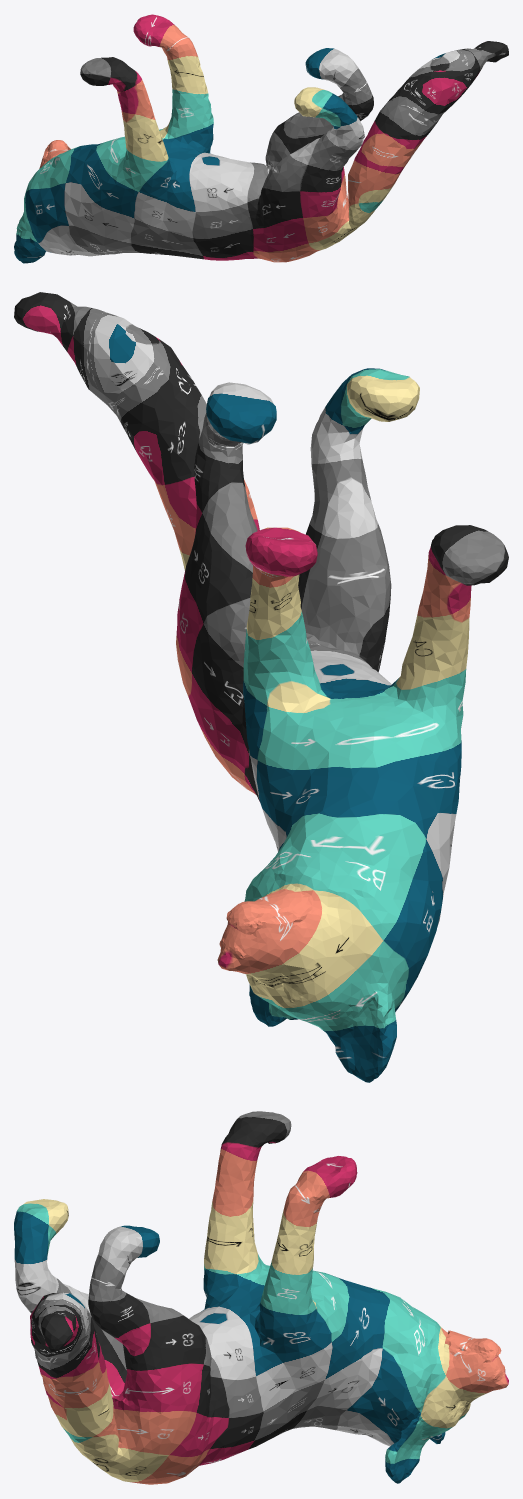
The model's file is horse_04-fox_02.obj.
3 renders of one model, top to bottom at view 1: azimuth 30°, elevation 25°; view 2: azimuth 150°, elevation 25°; view 3: azimuth 270°, elevation 25°, orthographic. The views are drawn at different scales.
Visible parts, largest first — view 1: horse_04-fox_02_export; view 2: horse_04-fox_02_export; view 3: horse_04-fox_02_export.
Boxes of the visible parts, x1=… form: horse_04-fox_02_export: x1=14, y1=14, x2=508, y2=263; horse_04-fox_02_export: x1=14, y1=292, x2=508, y2=1082; horse_04-fox_02_export: x1=14, y1=1111, x2=508, y2=1484.
Bounding box in the file's own units: 0.8388 × 0.575 × 0.768.
